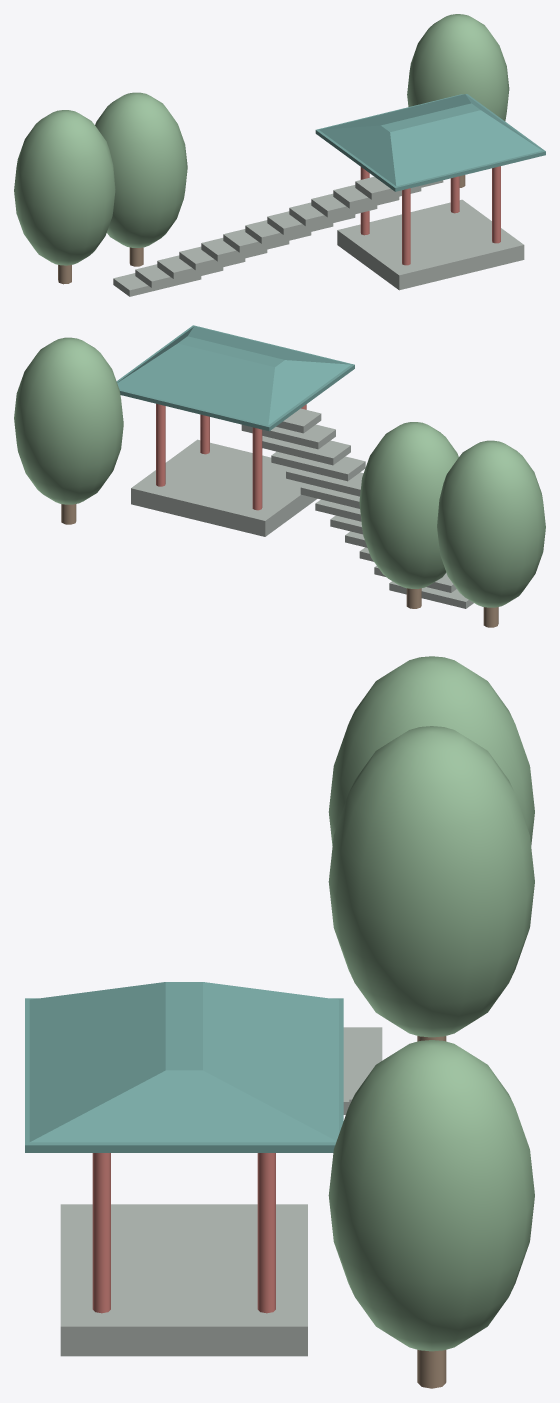
File: trail.glb
3 renders of one model, top to bottom at view 1: azimuth 30°, elevation 25°; view 2: azimuth 150°, elevation 25°; view 3: azimuth 270°, elevation 25°, orthographic. The views are drawn at different scales.
Visible parts, largest first — view 1: trail; view 2: trail; view 3: trail.
Boxes of the visible parts, x1,y1,x2,y2 form: trail: (14,14,545,296); trail: (14,325,545,627); trail: (25,656,534,1388).
Bounding box in the file's own units: 27 × 9.17 × 12.36.
